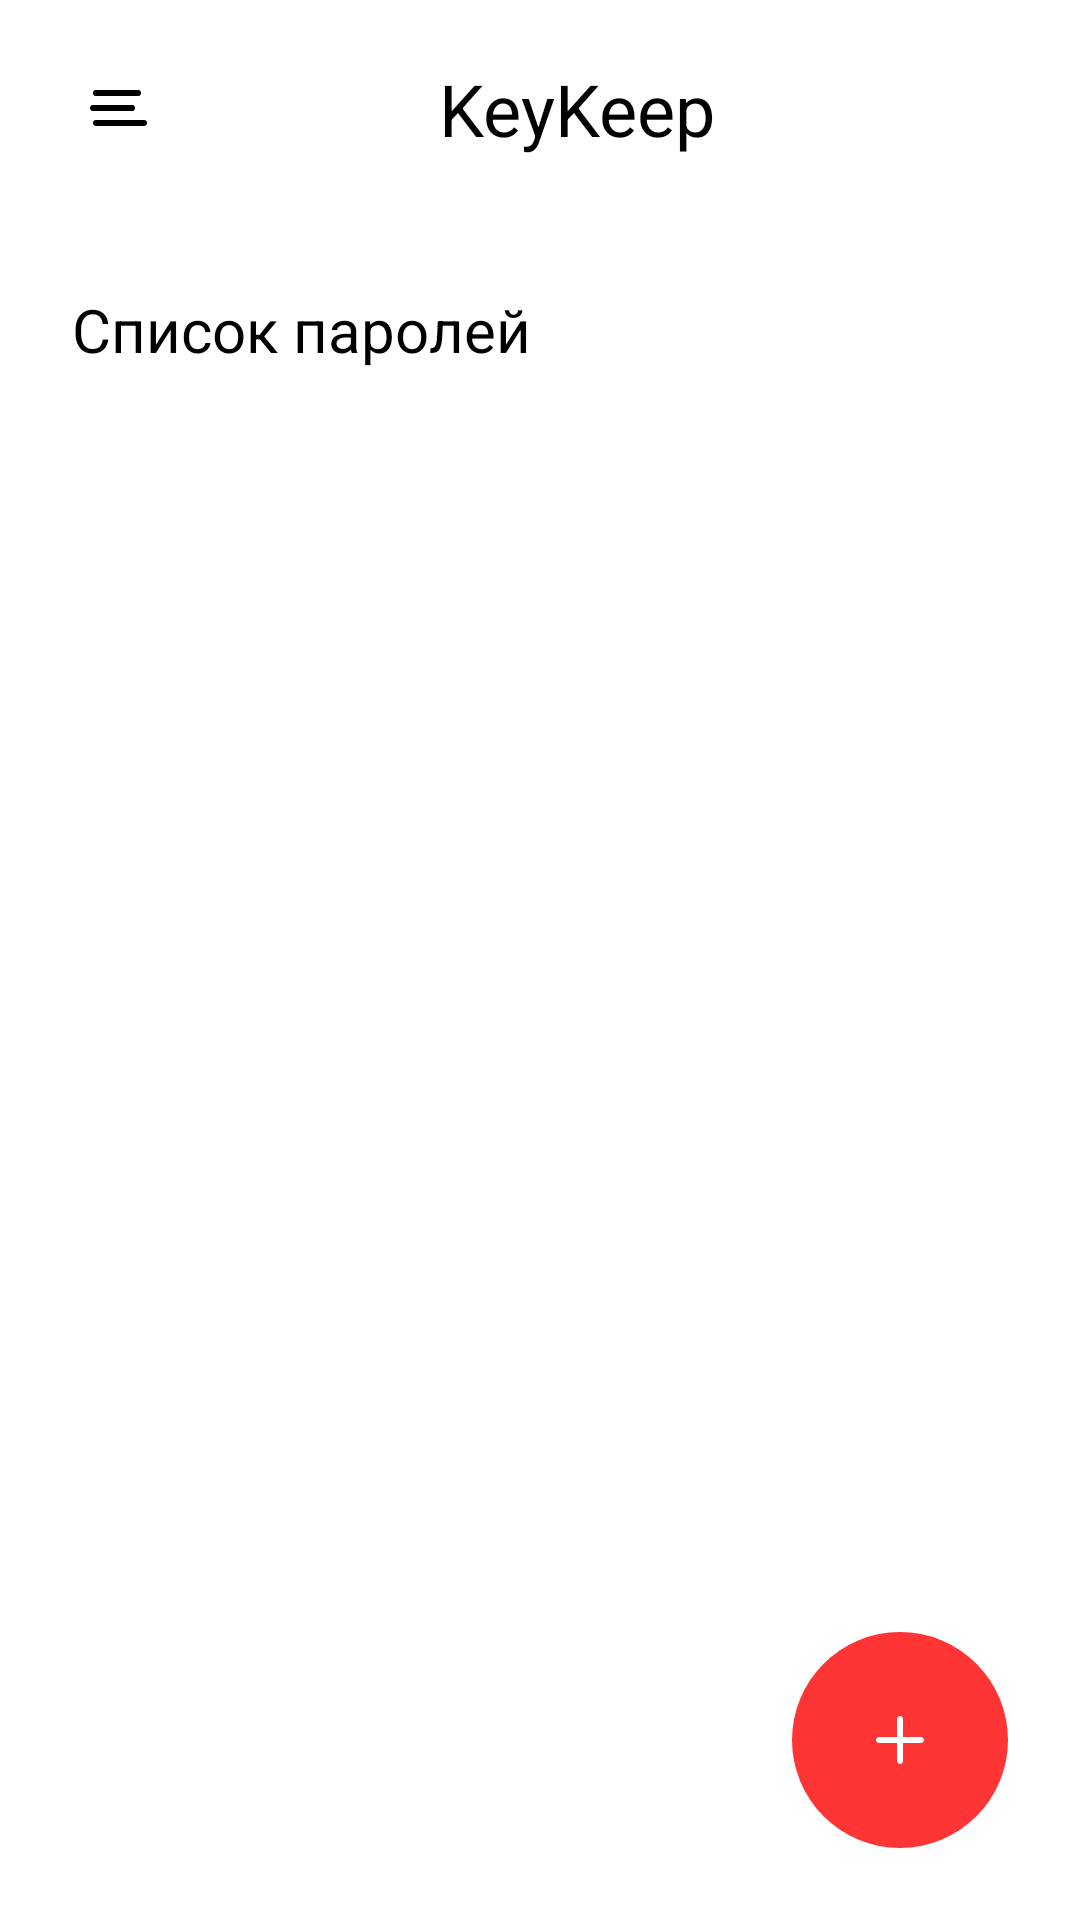

Named icons in this screenshot (1080px x 1920px) and their centers, point (x, y):
plus: point (900, 1740)
Открыть выдвижное меню: point (118, 108)
